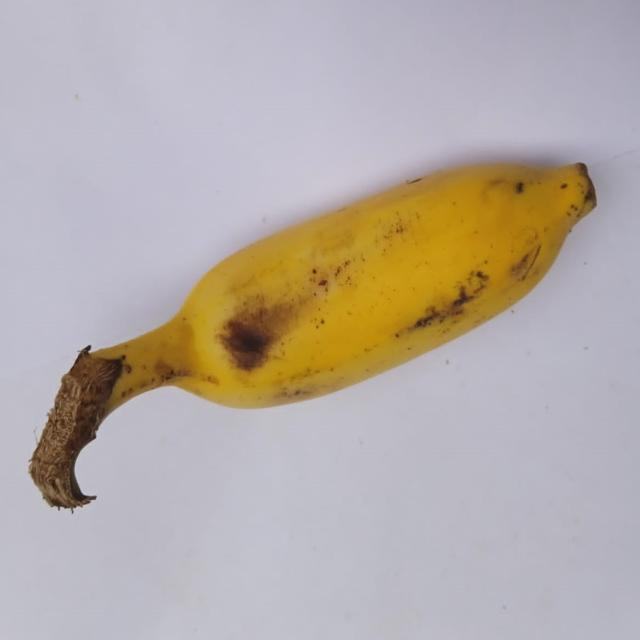banana: (30, 164, 596, 507)
